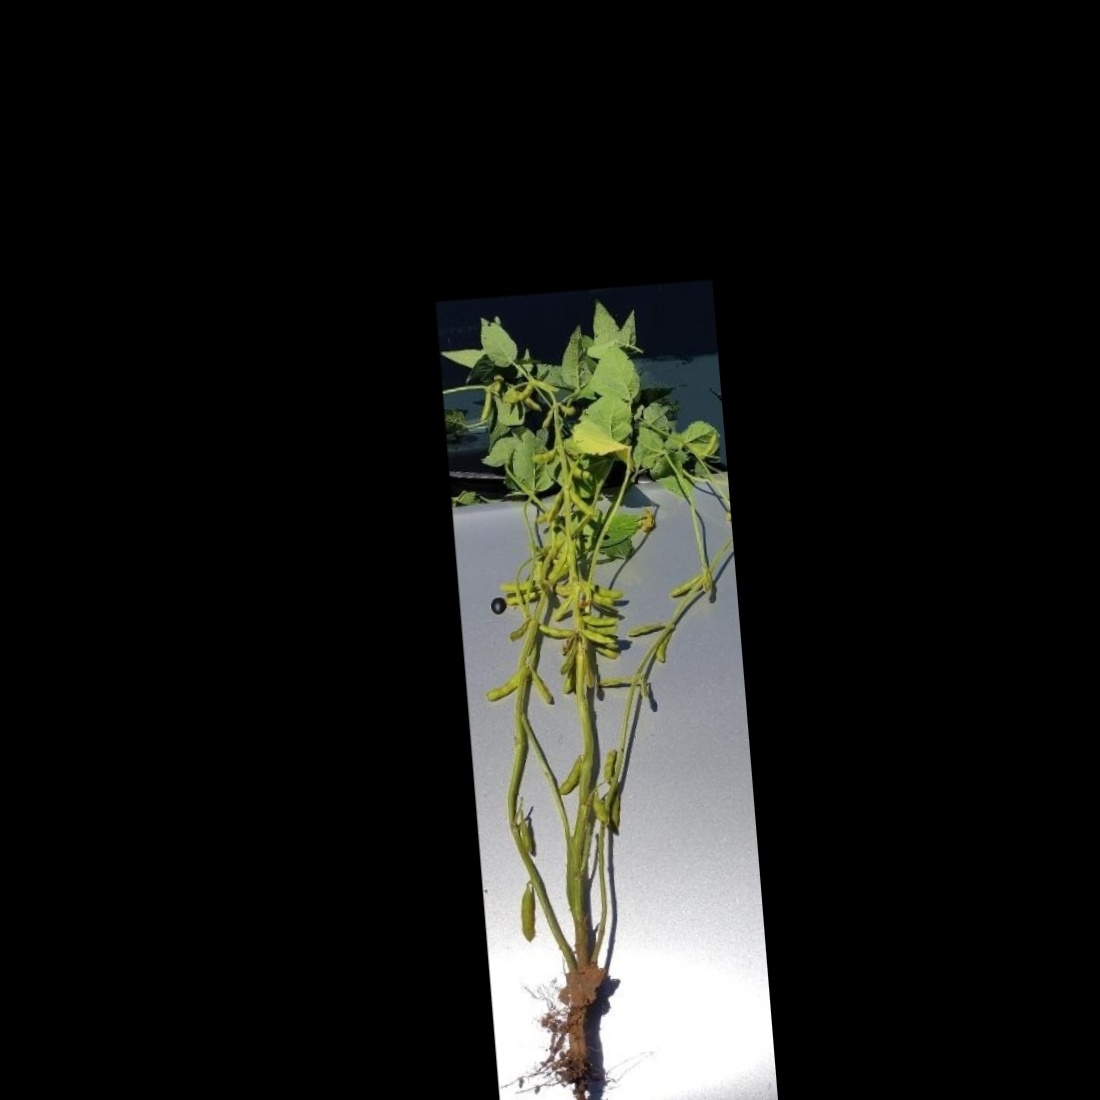pod: (513, 884, 544, 950), (525, 659, 560, 711), (563, 482, 601, 523), (548, 585, 583, 626), (553, 752, 583, 797), (482, 671, 519, 706), (621, 618, 669, 640), (536, 620, 580, 642), (577, 625, 617, 649), (598, 744, 620, 784), (579, 609, 623, 629), (528, 444, 560, 466)
soy: (457, 319, 766, 1100)
